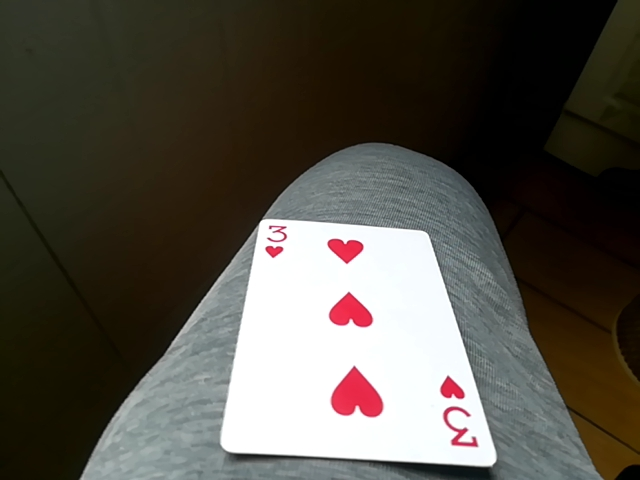hx 3: (224, 215, 492, 472)
